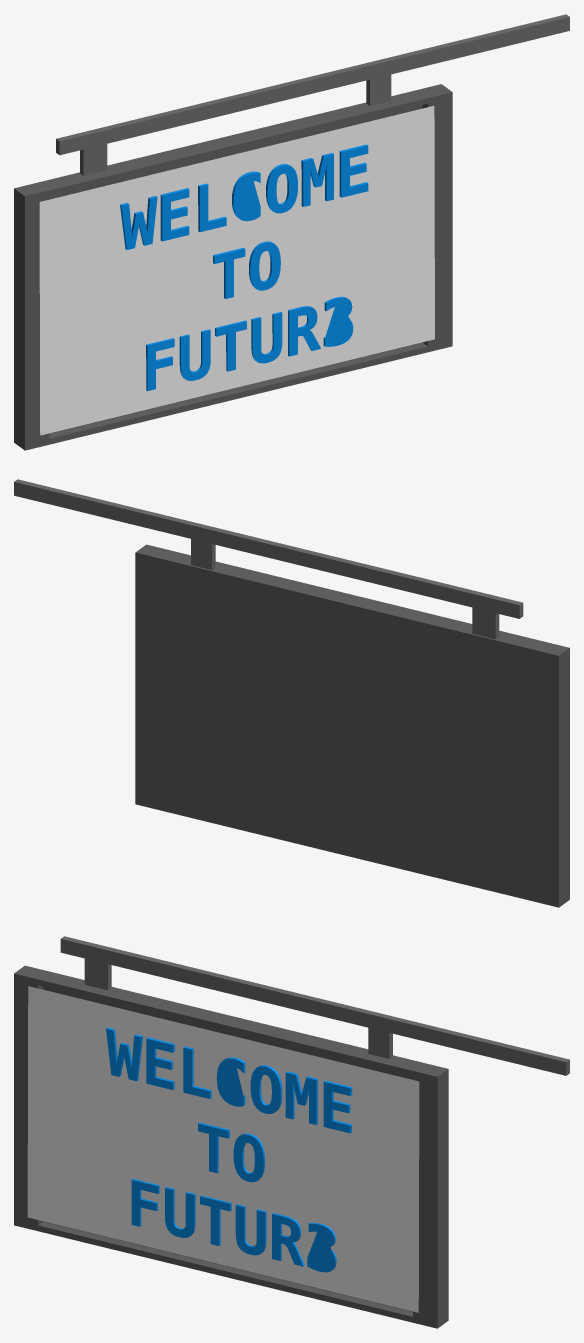
The model's file is Señal_Futur3.fbx.
The picture shows the model from 3 angles, top to bottom: view 1: azimuth 30°, elevation 25°; view 2: azimuth 150°, elevation 25°; view 3: azimuth 330°, elevation 25°; orthographic projection.
Visible parts, largest first — view 1: pasted__pPlane1, pasted__pCube1, typeMesh2, pasted__pCube2; view 2: pasted__pCube1, pasted__pCube2; view 3: pasted__pPlane1, pasted__pCube1, typeMesh2, pasted__pCube2.
Part boxes in pixels (x1,y1,x2,y2): pasted__pPlane1: [39, 106, 434, 435]; pasted__pCube1: [14, 84, 452, 450]; typeMesh2: [120, 144, 368, 391]; pasted__pCube2: [56, 14, 569, 175]; pasted__pCube1: [135, 544, 569, 907]; pasted__pCube2: [14, 479, 523, 639]; pasted__pPlane1: [27, 986, 419, 1312]; pasted__pCube1: [14, 965, 448, 1328]; typeMesh2: [106, 1027, 352, 1272]; pasted__pCube2: [60, 936, 569, 1075].
Bounding box in the file's own units: 2.52 × 1.29 × 0.1025.
